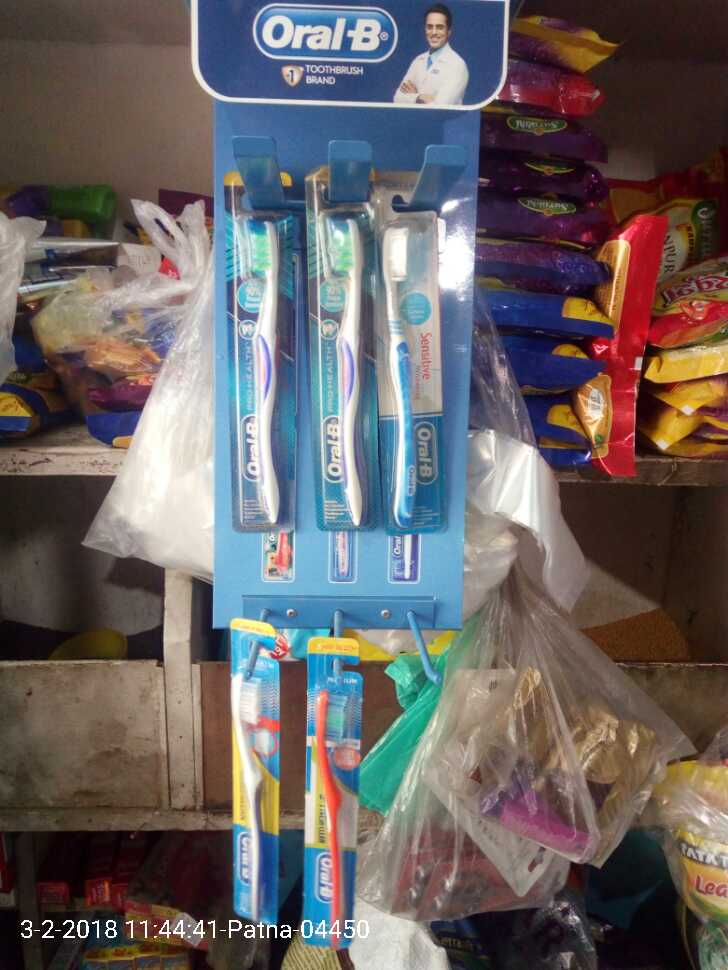oralb: (374, 229, 447, 548), (310, 220, 370, 532), (236, 218, 295, 522), (228, 639, 279, 920), (306, 675, 358, 937)
